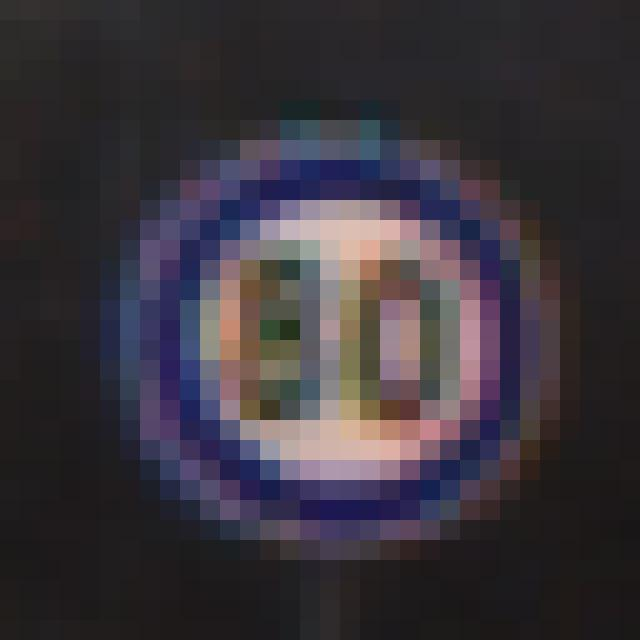SPEED-LIMIT-80: (105, 131, 541, 552)
